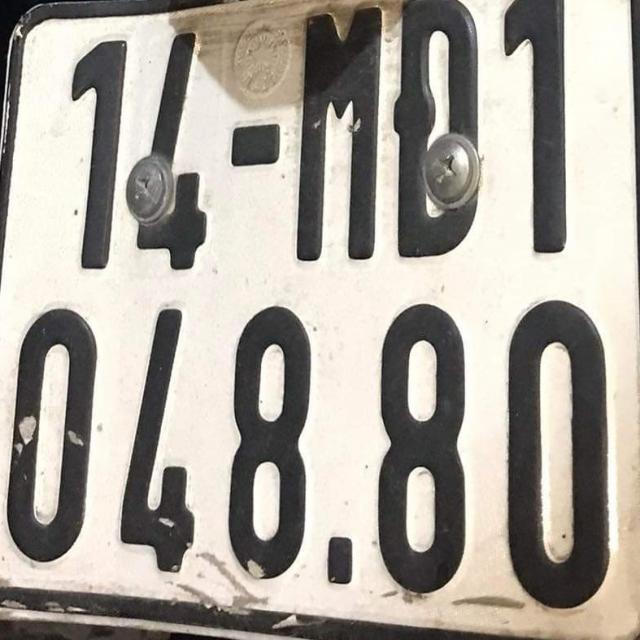0: (497, 286, 620, 620), (1, 298, 106, 572)
1: (501, 0, 580, 258), (61, 28, 128, 278)
4: (109, 297, 207, 583), (128, 25, 222, 277)
8: (365, 299, 482, 595), (217, 298, 321, 578)
D: (393, 0, 494, 269)
M: (293, 0, 392, 265)
